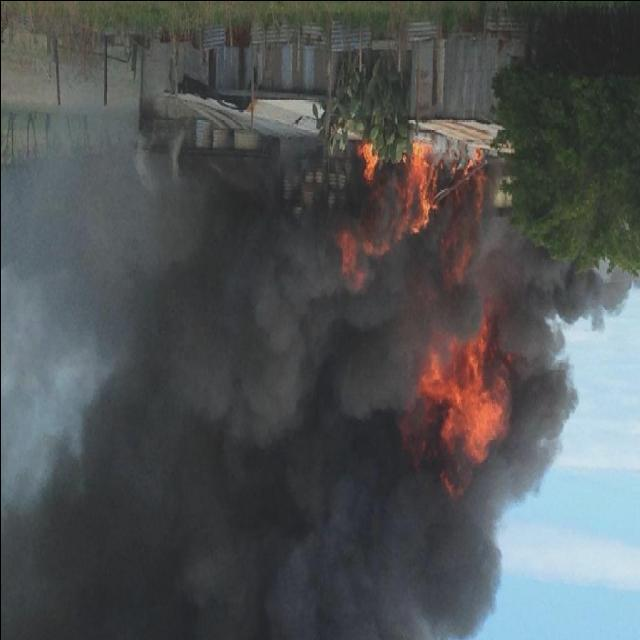Fire: (411, 306, 521, 502), (340, 143, 438, 271), (458, 150, 488, 226), (360, 142, 378, 186)
